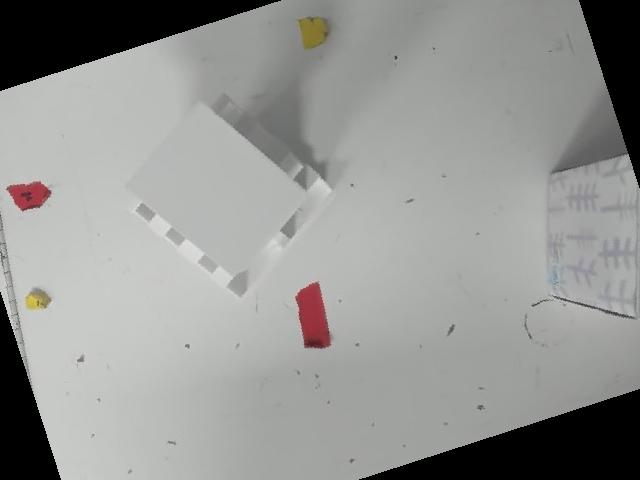white pallet: (112, 83, 350, 309)
